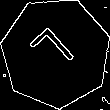L_SE: (28, 24, 84, 82)
